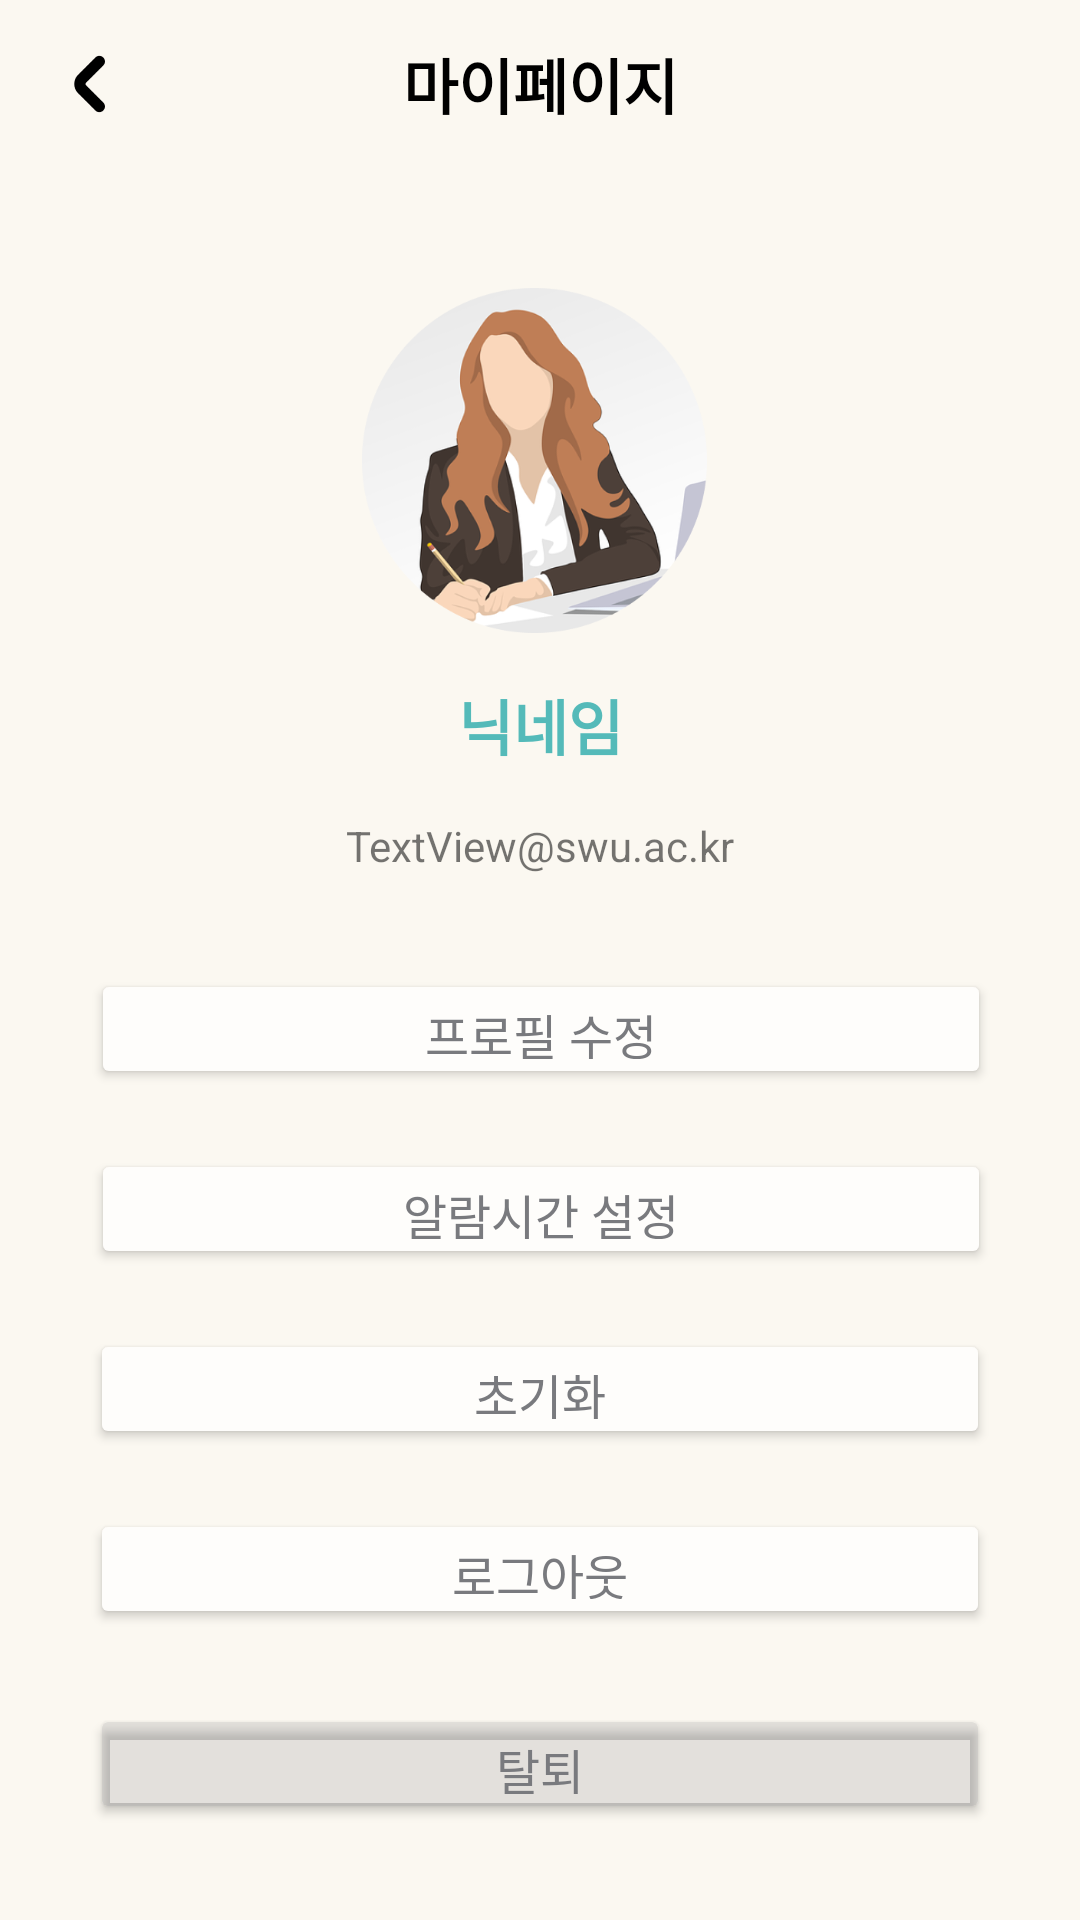

Where to tap for icons on this 1080x1920 app screen, as [x,y]:
back: [89,84]
profile: [562,465]
